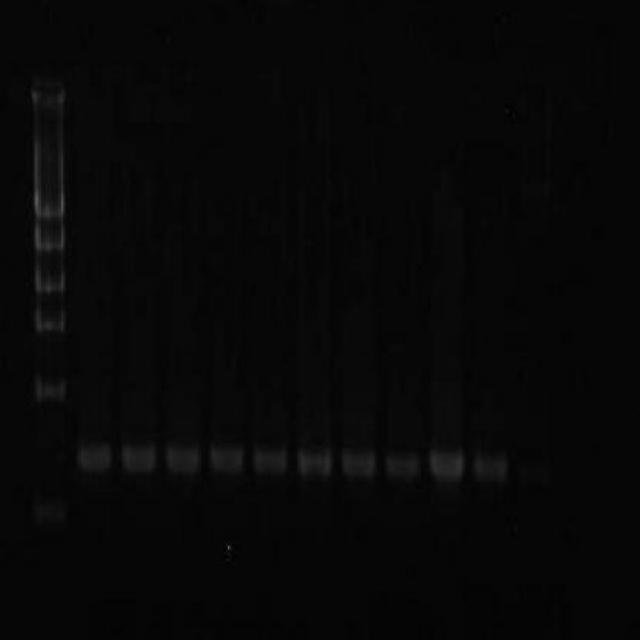B: (252, 436, 290, 482), (294, 440, 336, 480), (207, 436, 246, 478), (424, 443, 466, 482), (120, 436, 158, 478), (340, 440, 378, 482), (75, 439, 117, 476), (164, 437, 202, 477), (382, 447, 422, 485), (514, 454, 556, 490), (472, 450, 510, 486)
L: (17, 46, 565, 140)
M: (23, 144, 76, 544)
P: (31, 186, 68, 220), (30, 495, 68, 528), (31, 220, 67, 254), (33, 302, 67, 336), (34, 261, 66, 297), (34, 374, 68, 404)
Pc: (30, 74, 68, 111)
